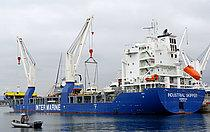Ship: (7, 15, 208, 120)
